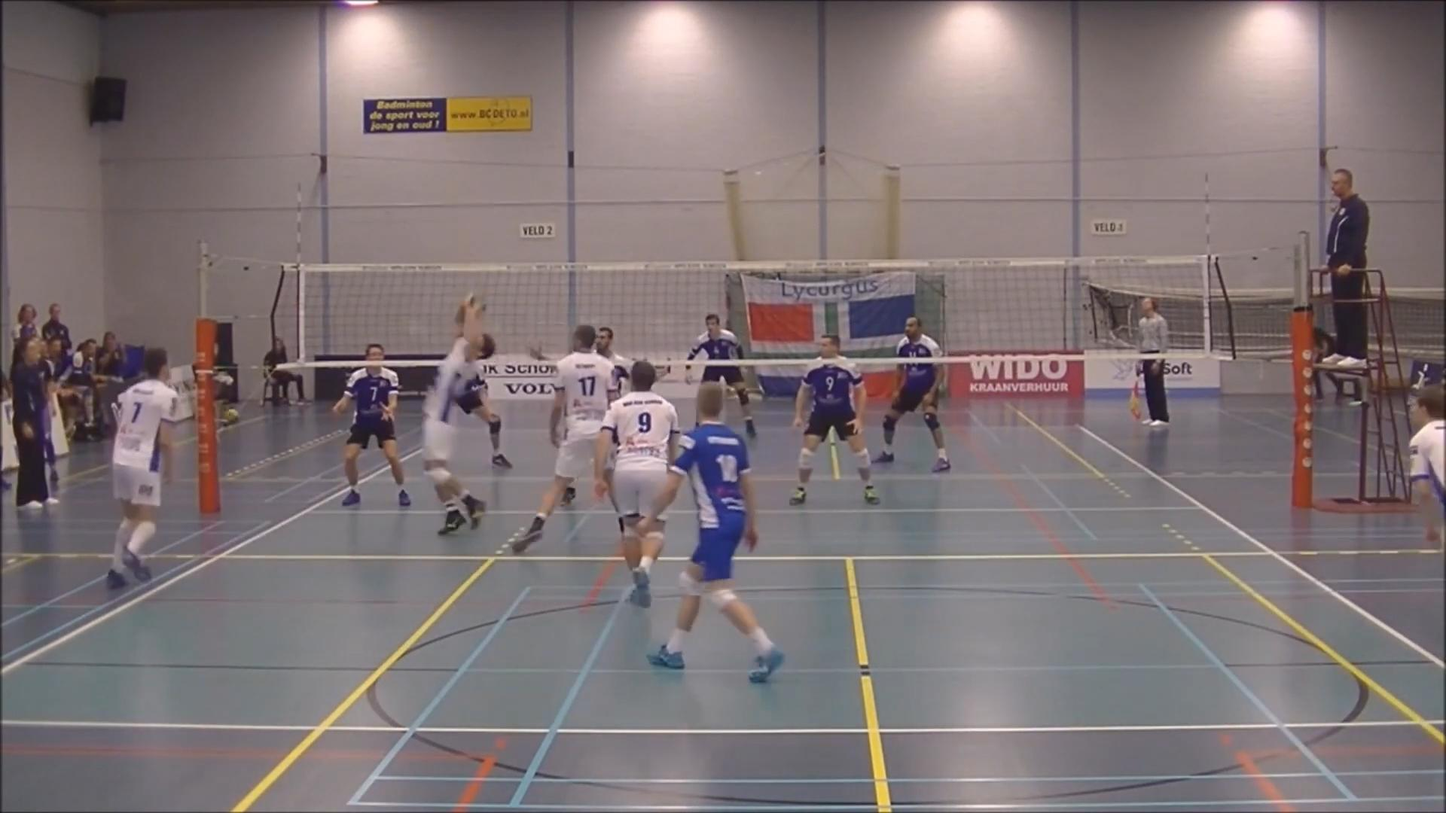alzata: (423, 290, 497, 545)
